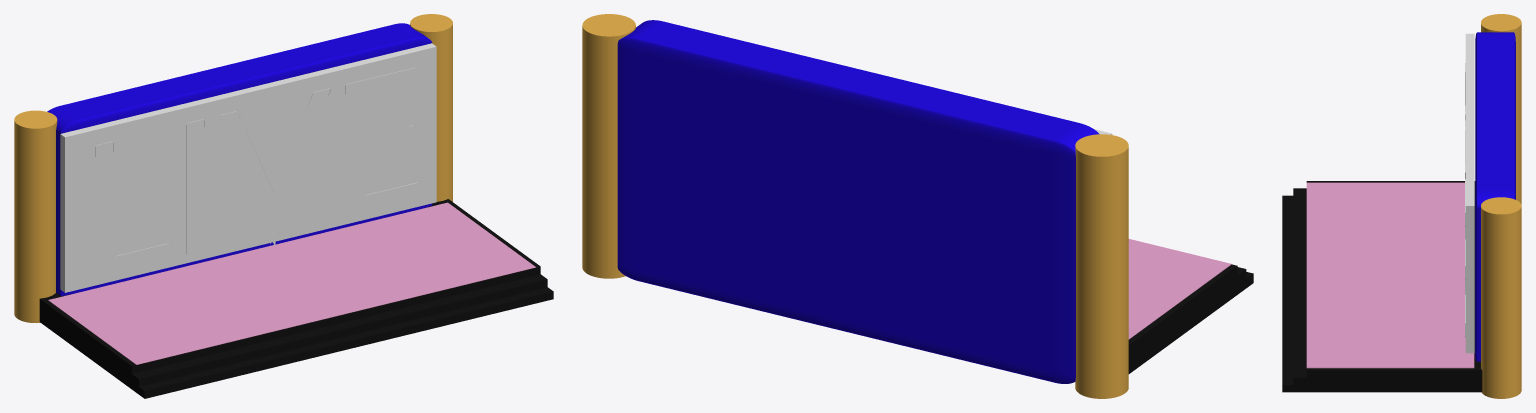
File: uploads_files_2059803_01-stage.fbx
The picture shows the model from 3 angles, left to right: view 1: azimuth 30°, elevation 25°; view 2: azimuth 150°, elevation 25°; view 3: azimuth 270°, elevation 25°; orthographic projection. The views are drawn at different scales.
Parts seen in each view (by area): view 1: Plane.001, Plane, Cube, Text, Cube.001, Cylinder, Cylinder.001; view 2: Cube.001, Cylinder, Cylinder.001, Plane, Cube; view 3: Plane, Cube, Cylinder.001, Cube.001, Plane.001, Cylinder, Text.
Boxes of the visible parts, bbox=[...] form: Plane.001: bbox=[60, 43, 436, 292]; Plane: bbox=[48, 202, 535, 364]; Cube: bbox=[39, 199, 553, 398]; Text: bbox=[93, 67, 418, 281]; Cube.001: bbox=[47, 23, 432, 295]; Cylinder: bbox=[14, 110, 57, 322]; Cylinder.001: bbox=[410, 14, 452, 201]; Cube.001: bbox=[617, 20, 1099, 383]; Cylinder: bbox=[1075, 134, 1128, 398]; Cylinder.001: bbox=[582, 14, 635, 278]; Plane: bbox=[1128, 239, 1231, 339]; Cube: bbox=[1128, 264, 1253, 373]; Plane: bbox=[1306, 182, 1474, 368]; Cube: bbox=[1282, 181, 1482, 392]; Cylinder.001: bbox=[1481, 197, 1521, 398]; Cube.001: bbox=[1475, 32, 1515, 361]; Plane.001: bbox=[1465, 33, 1474, 353]; Cylinder: bbox=[1481, 14, 1521, 204]; Text: bbox=[1465, 63, 1465, 337].
Bounding box in the file's own units: 1165 × 503 × 587.
